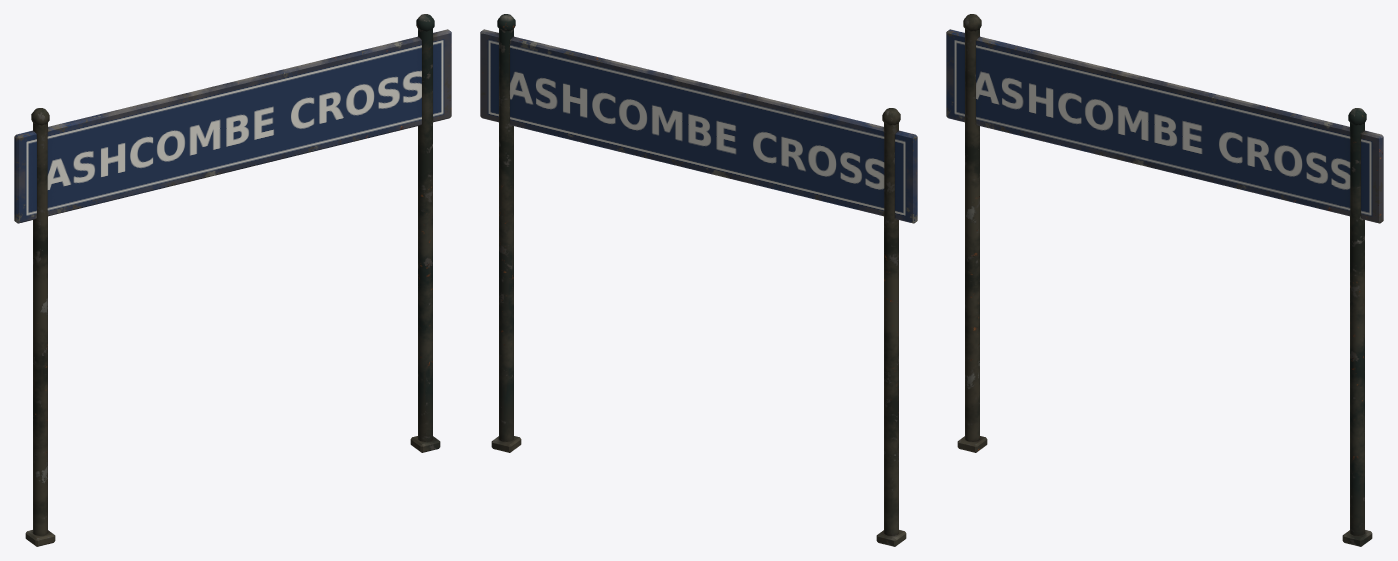
The model's file is StationSign.fbx.
The picture shows the model from 3 angles, left to right: view 1: azimuth 30°, elevation 25°; view 2: azimuth 150°, elevation 25°; view 3: azimuth 330°, elevation 25°; orthographic projection.
Visible parts, largest first — view 1: StationSign; view 2: StationSign; view 3: StationSign.
Part boxes in pixels (x1,y1,x2,y2): StationSign: (14, 14, 451, 546); StationSign: (480, 14, 917, 546); StationSign: (946, 14, 1383, 546).
Size of the model in its own units: 7.8 by 7.41 by 0.36.
1 material, 1 textured.
